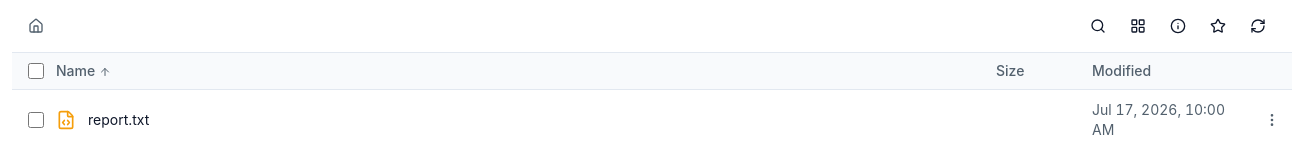
it: FileBrowser provider capabilities › offers download and details but hides mutations for read-only items
The width and height of the screenshot is (1292, 160).
Right-click the text "report.txt" at (119, 120), box [88,110,149,130]
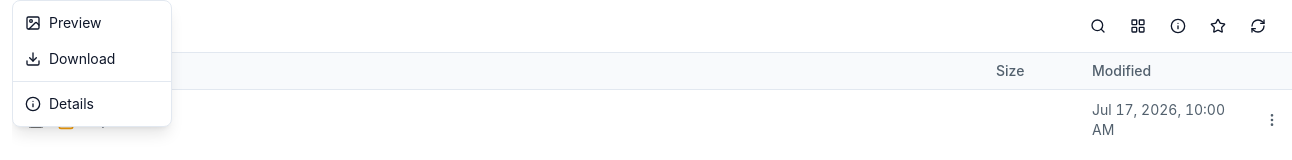
Check: the button "Download" is shown, box [13,41,171,77]
Check: the button "Details" is shown, box [13,86,171,122]
